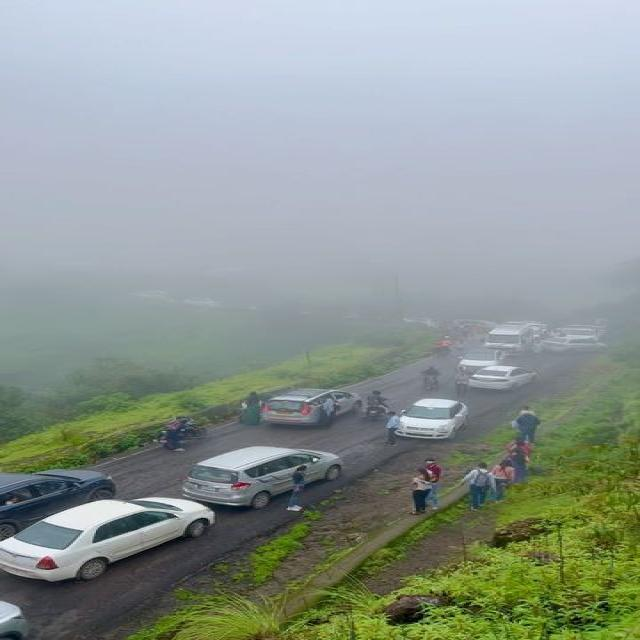moderate_traffic: (0, 292, 618, 620)
